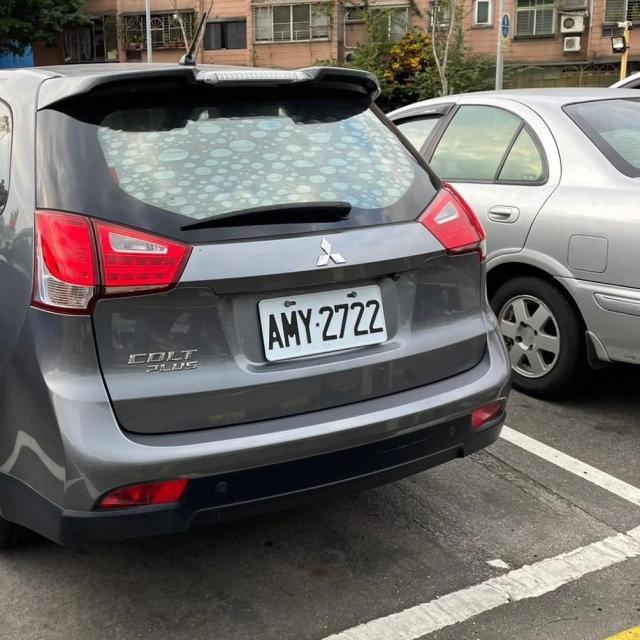W: (248, 281, 397, 363)
